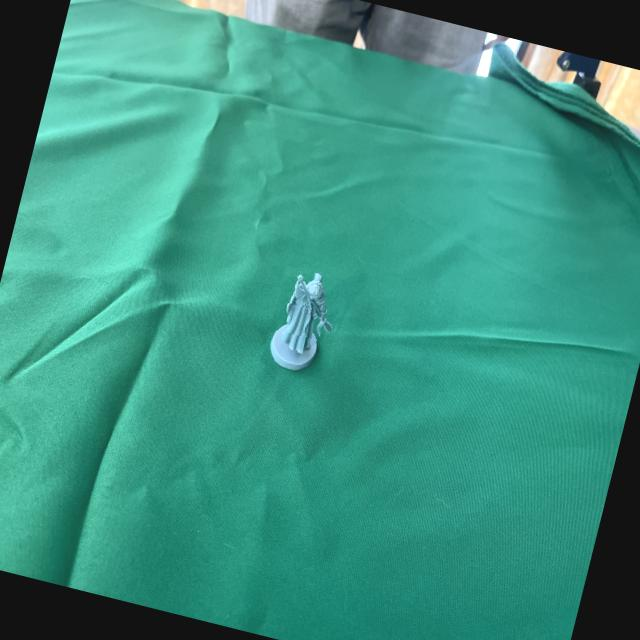isis_follower: (260, 264, 349, 380)
